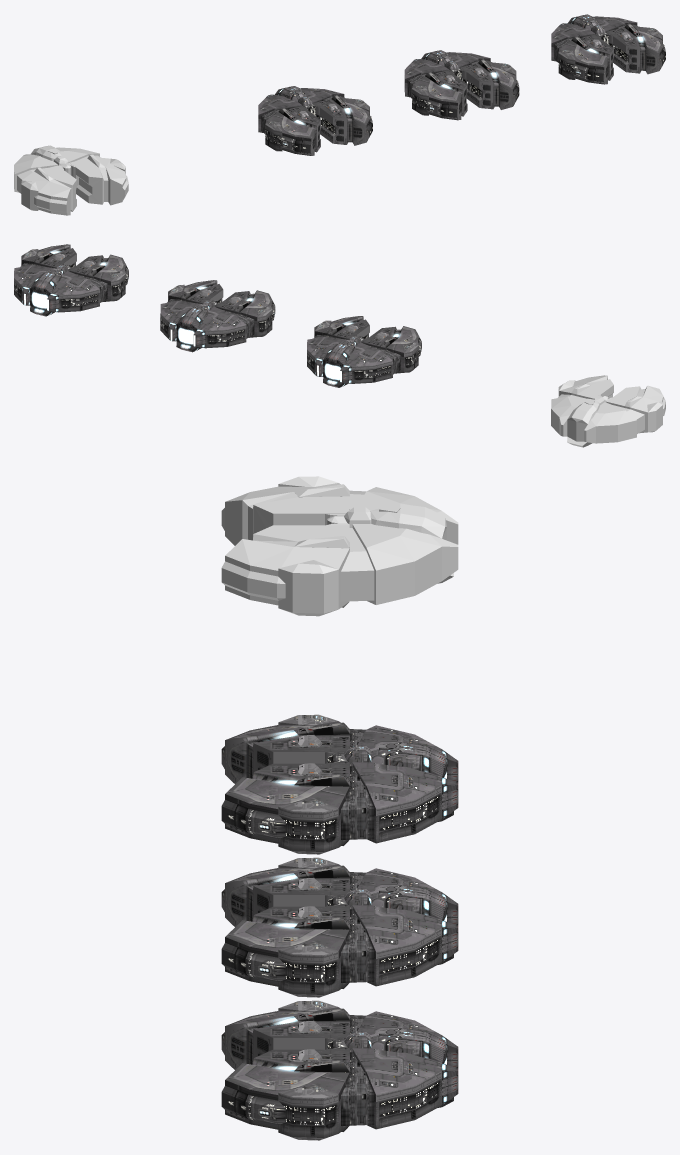
Rendered from hgn_smt_dreadnought.dae.
3 views of the same model, one above another, from view 1: azimuth 30°, elevation 25°; view 2: azimuth 150°, elevation 25°; view 3: azimuth 270°, elevation 25° (orthographic). The views are drawn at different scales.
Visible parts, largest first — view 1: COL[Root], MULT[root_mesh]_LOD[1], MULT[root_mesh]_LOD[2], MULT[root_mesh]_LOD[0]; view 2: COL[Root], MULT[root_mesh]_LOD[1], MULT[root_mesh]_LOD[0], MULT[root_mesh]_LOD[2]; view 3: COL[Root], MULT[root_mesh]_LOD[0], MULT[root_mesh]_LOD[1], MULT[root_mesh]_LOD[2].
Boxes of the visible parts, x1=… form: COL[Root]: x1=14, y1=145, x2=128, y2=215; MULT[root_mesh]_LOD[1]: x1=404, y1=50, x2=519, y2=120; MULT[root_mesh]_LOD[2]: x1=551, y1=14, x2=665, y2=84; MULT[root_mesh]_LOD[0]: x1=258, y1=86, x2=372, y2=155; COL[Root]: x1=551, y1=375, x2=665, y2=447; MULT[root_mesh]_LOD[1]: x1=160, y1=280, x2=275, y2=352; MULT[root_mesh]_LOD[0]: x1=307, y1=316, x2=421, y2=387; MULT[root_mesh]_LOD[2]: x1=14, y1=244, x2=128, y2=316; COL[Root]: x1=221, y1=476, x2=458, y2=616; MULT[root_mesh]_LOD[0]: x1=221, y1=714, x2=458, y2=854; MULT[root_mesh]_LOD[1]: x1=221, y1=857, x2=458, y2=997; MULT[root_mesh]_LOD[2]: x1=221, y1=1000, x2=458, y2=1140.
Bounding box in the file's own units: 2467 × 140 × 399.
17 materials, 17 textured.
